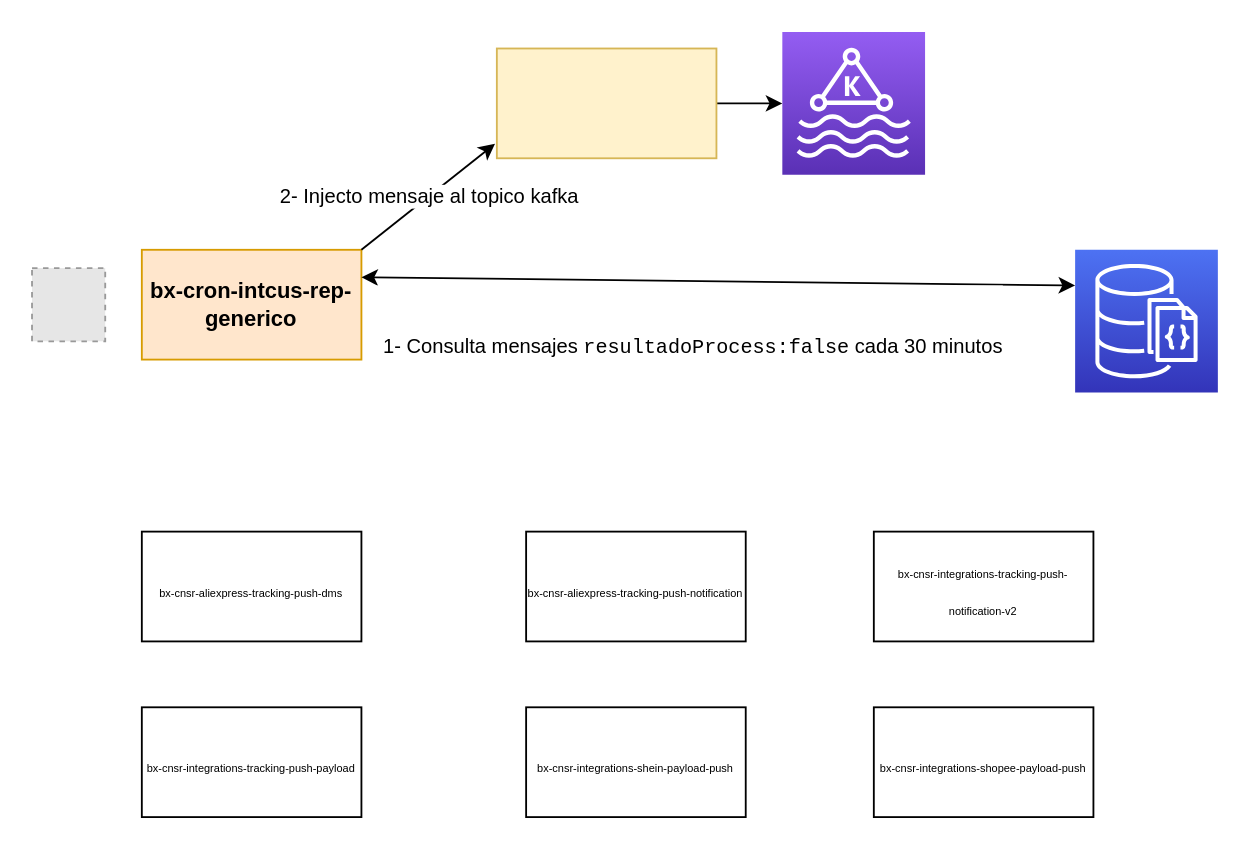
Image size: 1250x849. Some labels were removed from this diagram. Grey dashed boxes stand in for pictures. The centre of each missing label's shape, as x and y in pixels:
MongoDB: [1145,320]
topíco: [605,102]
